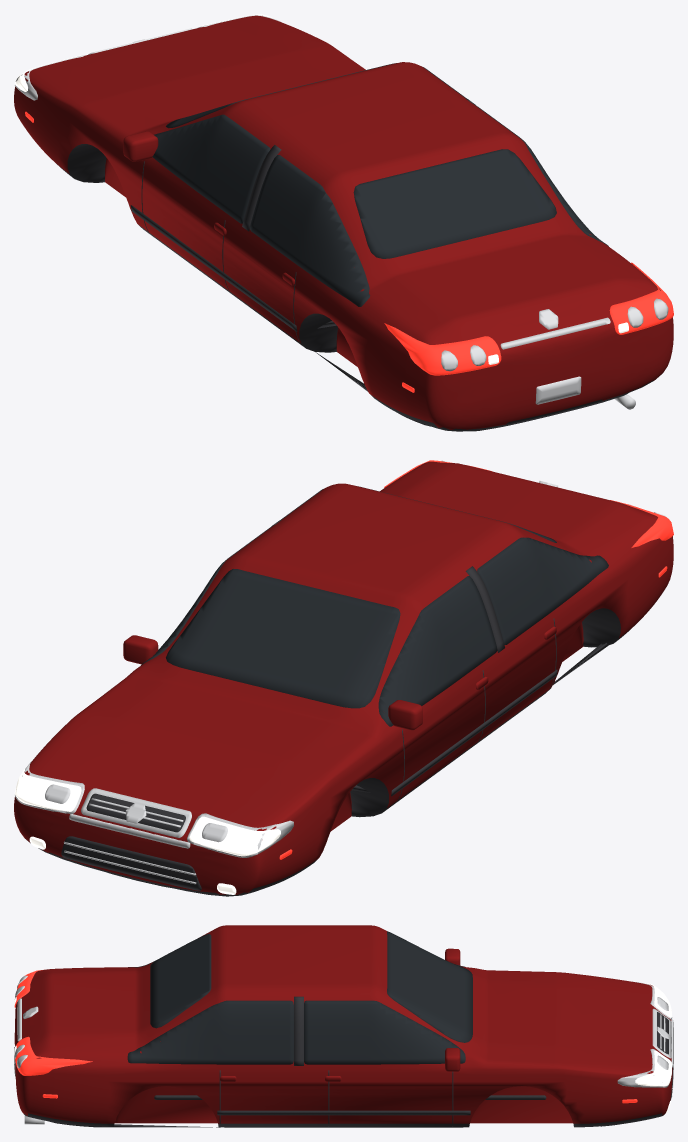
The model's file is car_corvane_dutchess.glb.
3 views of the same model, one above another, from view 1: azimuth 30°, elevation 25°; view 2: azimuth 150°, elevation 25°; view 3: azimuth 270°, elevation 25° (orthographic). The views are drawn at different scales.
Parts seen in each view (by area): view 1: car_corvane_dutchess; view 2: car_corvane_dutchess; view 3: car_corvane_dutchess.
Boxes of the visible parts, x1=… form: car_corvane_dutchess: x1=14, y1=14, x2=673, y2=431; car_corvane_dutchess: x1=14, y1=460, x2=673, y2=896; car_corvane_dutchess: x1=14, y1=925, x2=673, y2=1127.
Bounding box in the file's own units: 2.05 × 1.2 × 5.22.
